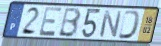2: (18, 7, 42, 36)
5: (81, 7, 102, 39)
B: (57, 6, 83, 39)
D: (117, 9, 143, 40)
E: (38, 6, 64, 38)
N: (98, 9, 123, 39)
